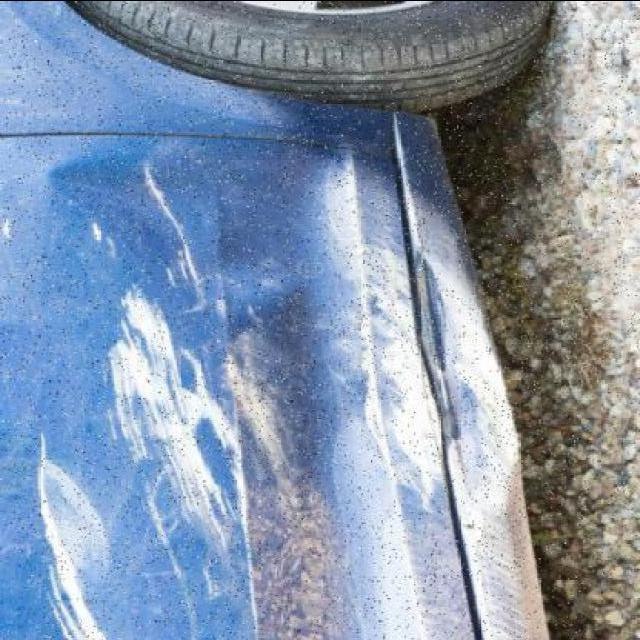RunningBoard-Dent: (415, 125, 512, 640)
doorouter-dent: (0, 146, 408, 640)
